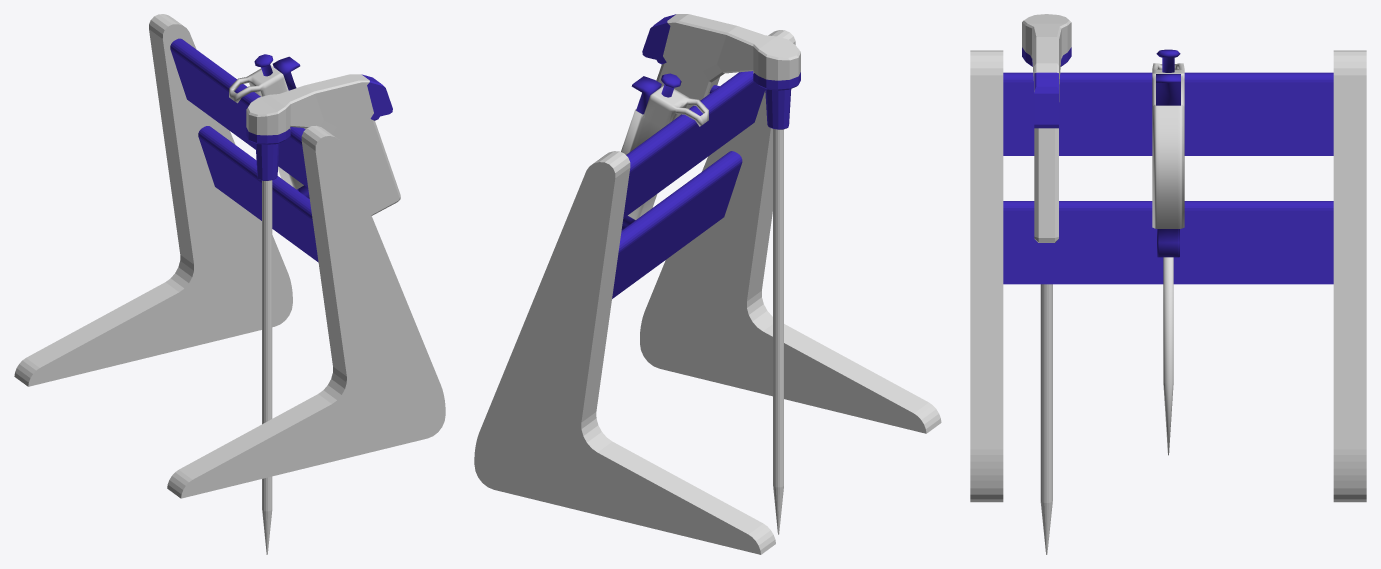
File: pipetteHolder.fbx
3 views of the same model, side by side, from view 1: azimuth 30°, elevation 25°; view 2: azimuth 150°, elevation 25°; view 3: azimuth 270°, elevation 25° (orthographic). The views are drawn at different scales.
Visible parts, largest first — view 1: Holder, Cylinder.005, Cylinder, Pipette; view 2: Holder, Cylinder.005, Cylinder, Pipette; view 3: Holder, Pipette, Cylinder.005, Cylinder.
Part boxes in pixels (x1,y1,x2,y2): Holder: (14,14,445,498); Cylinder.005: (246,74,400,215); Cylinder: (262,180,272,554); Pipette: (229,54,309,198); Holder: (474,30,941,554); Cylinder.005: (642,14,800,129); Cylinder: (773,129,783,534); Pipette: (621,73,708,230); Holder: (970,50,1366,502); Pipette: (1152,49,1184,455); Cylinder.005: (1022,14,1071,242); Cylinder: (1040,284,1052,554).
Bounding box in the file's own units: 176 × 290 × 192.
